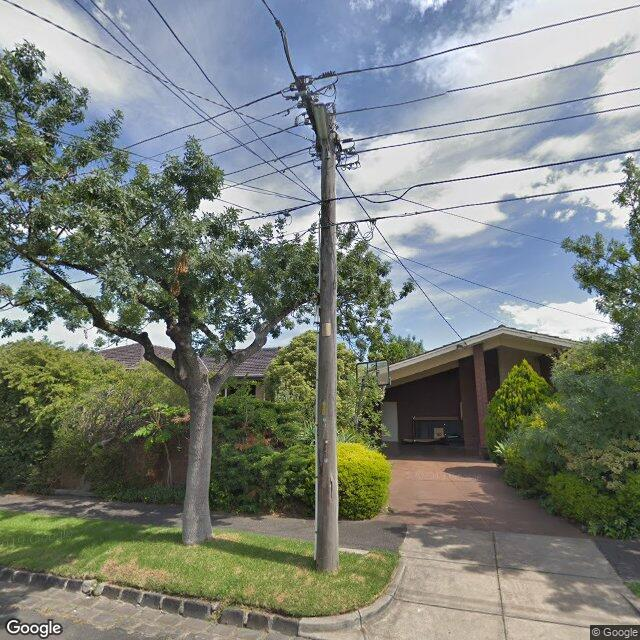crossarm: (295, 75, 317, 134)
streetlight: (314, 102, 330, 160)
timber-pole: (316, 113, 338, 573)
